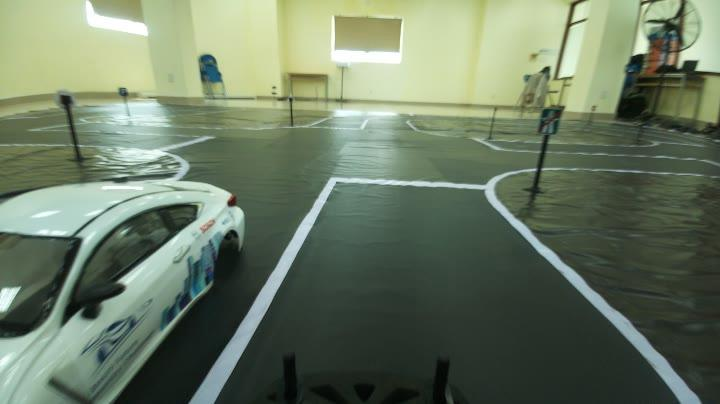car: (7, 152, 244, 393)
highway_exit: (537, 95, 567, 142)
